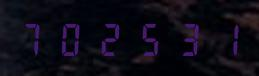five: (129, 20, 165, 56)
one: (203, 20, 239, 56)
seven: (17, 20, 53, 56)
three: (166, 20, 202, 56)
two: (92, 20, 128, 56)
zero: (54, 20, 90, 56)
